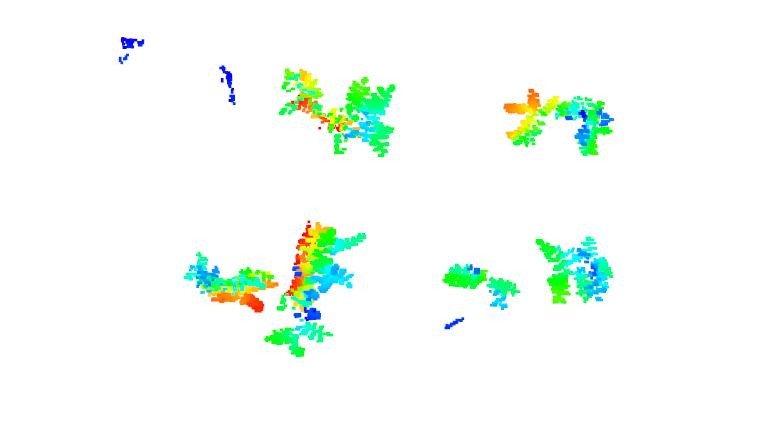chickpea: (263, 219, 368, 368), (330, 74, 399, 157), (536, 233, 615, 305), (186, 258, 280, 311), (441, 262, 522, 310), (501, 88, 564, 146), (557, 93, 615, 156), (276, 67, 329, 122)
